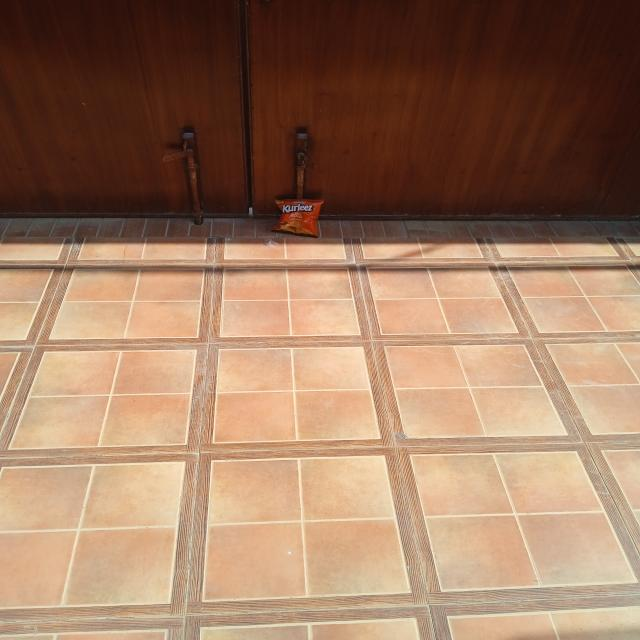Plastic: (275, 196, 322, 236)
